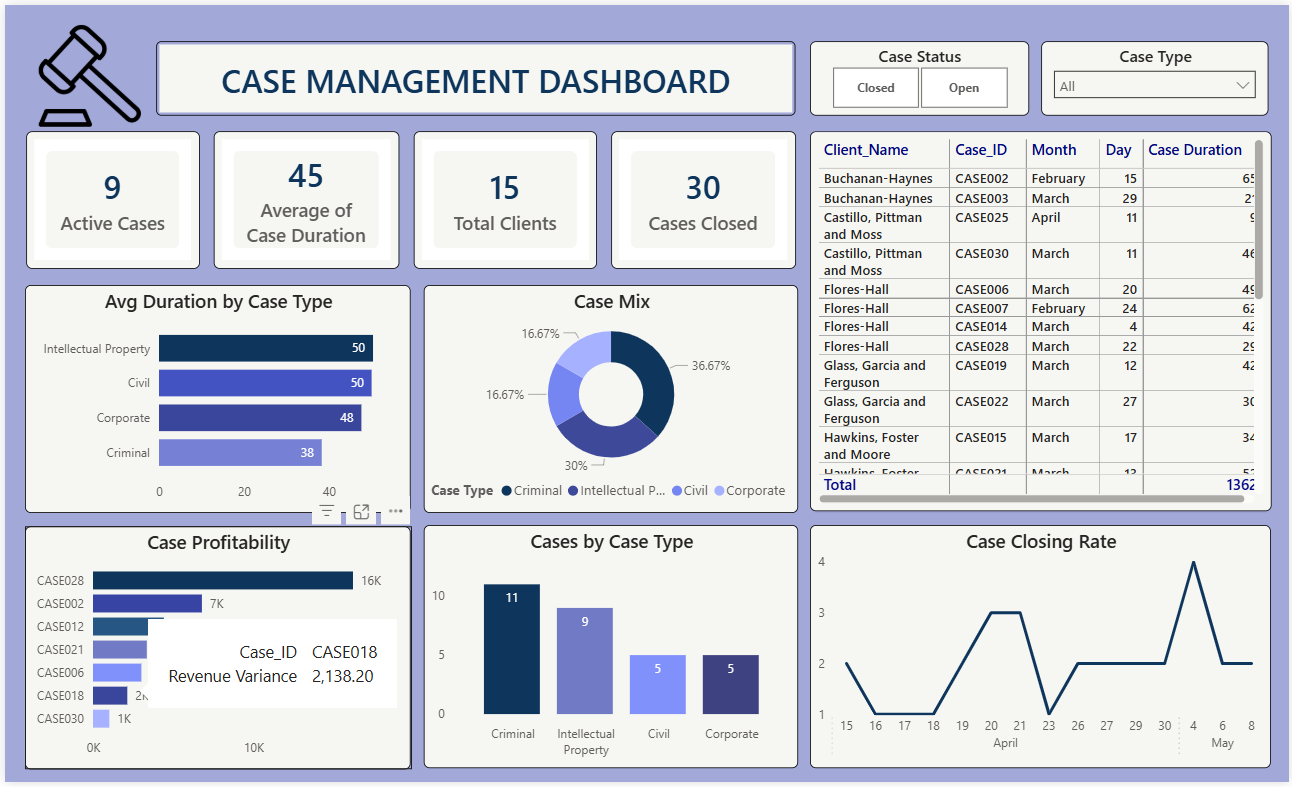

The dashboard page shown, as its layout file describes it:
{"tool":"powerbi","page":{"name":"Case Management","canvas":[1285,777],"ordinal":2},"visuals":[{"type":"shape","box":[150.9,36,639.5,74.1],"z":0},{"type":"textbox","box":[210.8,48.2,522.1,53.7],"z":1000},{"type":"cardVisual","title":"Total Payment","fields":{"Data":["_Key Measures.Active Cases"]},"box":[20.7,126.7,173.6,137.8],"z":2000},{"type":"cardVisual","title":"Total Payment","fields":{"Data":["Avg(case_data.Case Duration)"]},"box":[208.5,126.7,186,137.8],"z":3000},{"type":"cardVisual","fields":{"Data":["_Key Measures.Total Clients"]},"box":[408.7,126.7,183.2,137.8],"z":4000},{"type":"cardVisual","fields":{"Data":["_Key Measures.Cases Closed"]},"box":[606.1,126.7,184.6,137.8],"z":5000},{"type":"slicer","title":"Case Status","fields":{"Values":["case_data.Case_Status"]},"box":[805,35.8,219,74.4],"z":6000},{"type":"barChart","title":"Avg Duration by Case Type","fields":{"Category":["case_data.Case_Type"],"Y":["Avg(case_data.Case Duration)"]},"box":[20.6,279.9,385.6,227.8],"z":7000},{"type":"donutChart","title":"Case Mix","fields":{"Category":["case_data.Case_Type"],"Y":["CountNonNull(case_data.Case_ID)"]},"box":[418.5,279.9,374.6,227.8],"z":8000},{"type":"clusteredBarChart","title":"Case Profitability","fields":{"Category":["case_data.Case_ID"],"Y":["_Key Measures.Revenue Variance"]},"box":[20.6,521.4,385.6,242.9],"z":9000},{"type":"columnChart","title":"Cases by Case Type","fields":{"Category":["case_data.Case_Type"],"Y":["Count(case_data.Case_ID)"]},"box":[418.5,520.1,374.6,242.9],"z":10000},{"type":"tableEx","fields":{"Values":["client_data.Client_Name","case_data.Case_ID","case_data.Start_Date.Variation.Date Hierarchy.Month","case_data.Start_Date.Variation.Date Hierarchy.Day","Sum(case_data.Case Duration)"]},"box":[804.5,126.7,461.5,380.2],"z":11000},{"type":"slicer","title":"Case Type","fields":{"Values":["case_data.Case_Type"]},"box":[1035.9,35.8,227.3,74.4],"z":12000},{"type":"image","box":[0,0,169.4,141.9],"z":13000},{"type":"lineChart","title":"Case Closing Rate","fields":{"Y":["Count(case_data.Case_ID)"],"Category":["case_data.End_Date.Variation.Date Hierarchy.Month","case_data.End_Date.Variation.Date Hierarchy.Day"]},"box":[805,520,461,243],"z":14000}]}

Visuals, with their boxes in screenshot pixels (x1, y1, x2, y2), scaled from the page's 1285x777 canvas onto the 1292x787 screenshot:
shape: BBox(152, 36, 795, 112)
textbox: BBox(212, 49, 737, 103)
"Total Payment" cardVisual: BBox(21, 128, 195, 268)
"Total Payment" cardVisual: BBox(210, 128, 397, 268)
cardVisual - _Key Measures.Total Clients: BBox(411, 128, 595, 268)
cardVisual - _Key Measures.Cases Closed: BBox(609, 128, 795, 268)
"Case Status" slicer: BBox(809, 36, 1030, 112)
"Avg Duration by Case Type" barChart: BBox(21, 284, 408, 514)
"Case Mix" donutChart: BBox(421, 284, 797, 514)
"Case Profitability" clusteredBarChart: BBox(21, 528, 408, 774)
"Cases by Case Type" columnChart: BBox(421, 527, 797, 773)
tableEx - client_data.Client_Name x case_data.Case_ID: BBox(809, 128, 1273, 513)
"Case Type" slicer: BBox(1042, 36, 1270, 112)
image: BBox(0, 0, 170, 144)
"Case Closing Rate" lineChart: BBox(809, 527, 1273, 773)
